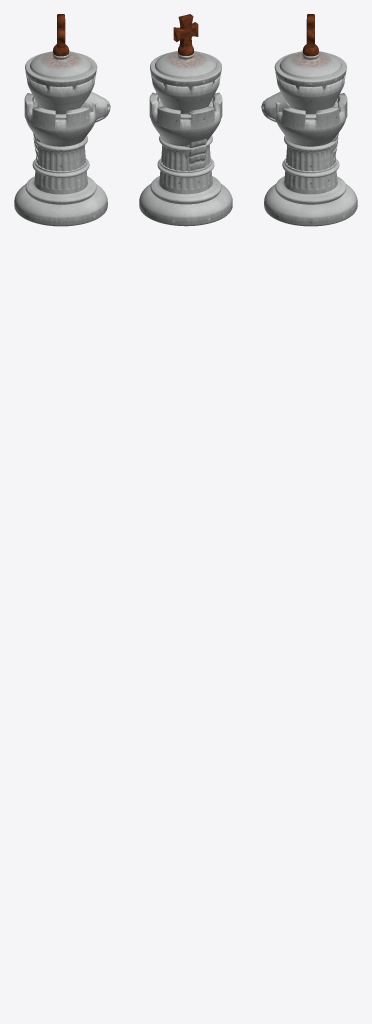
File: beton.glb
3 views of the same model, side by side, from view 1: azimuth 90°, elevation 25°; view 2: azimuth 210°, elevation 25°; view 3: azimuth 270°, elevation 25° (orthographic).
Visible parts, largest first — view 1: beton_king, beton_rook, beton_queen, beton_knight; view 2: beton_king, beton_rook, beton_queen, beton_knight; view 3: beton_king, beton_rook, beton_queen, beton_knight.
Part boxes in pixels (<box>): beton_king: <box>14,14,107,226</box>; beton_rook: <box>24,93,96,194</box>; beton_queen: <box>25,44,96,204</box>; beton_knight: <box>32,91,110,177</box>; beton_king: <box>139,14,232,226</box>; beton_rook: <box>149,92,222,194</box>; beton_queen: <box>150,45,221,204</box>; beton_knight: <box>156,93,214,177</box>; beton_king: <box>264,14,357,226</box>; beton_rook: <box>275,93,347,194</box>; beton_queen: <box>275,44,346,204</box>; beton_knight: <box>261,91,339,177</box>.
Bounding box in the file's own units: 0.5282 × 6.19 × 0.5439.
Materials: 2 (2 with a texture image).
